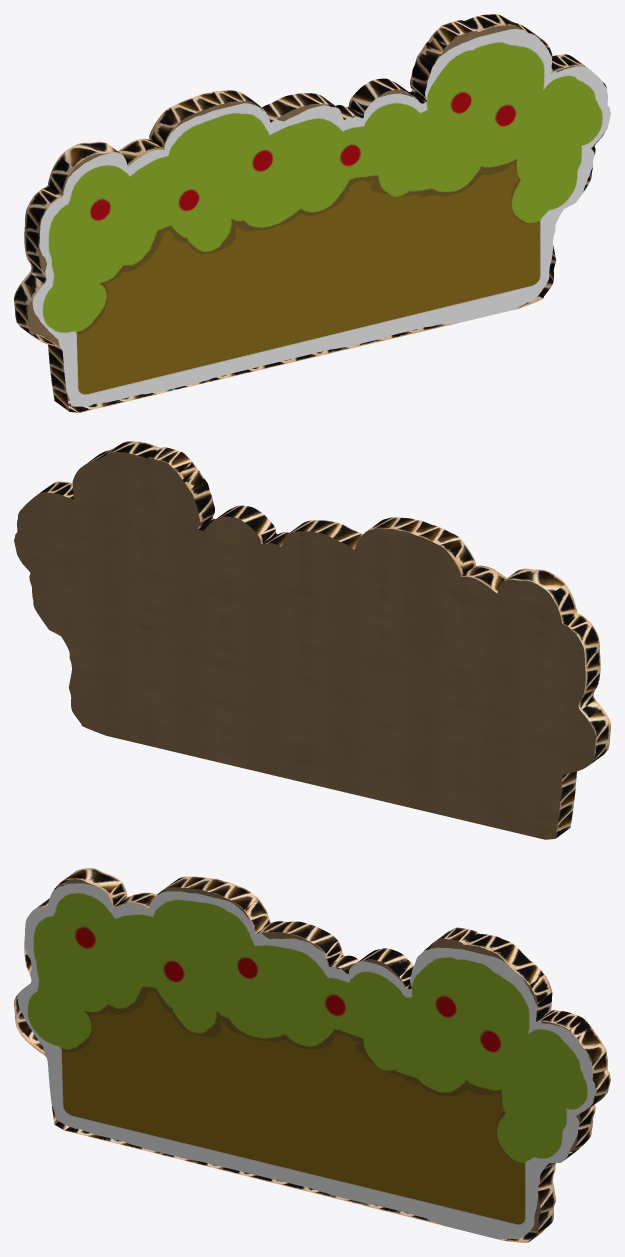
The model's file is platform_planterPot01.fbx.
The picture shows the model from 3 angles, top to bottom: view 1: azimuth 30°, elevation 25°; view 2: azimuth 150°, elevation 25°; view 3: azimuth 330°, elevation 25°; orthographic projection.
Visible parts, largest first — view 1: Line006; view 2: Line006; view 3: Line006.
Part boxes in pixels (x1=…): Line006: x1=14, y1=14, x2=610, y2=412; Line006: x1=14, y1=441, x2=610, y2=839; Line006: x1=14, y1=868, x2=610, y2=1242.
Size of the model in its own units: 6.95 by 3.29 by 0.3117.
Materials: 3 (3 with a texture image).
